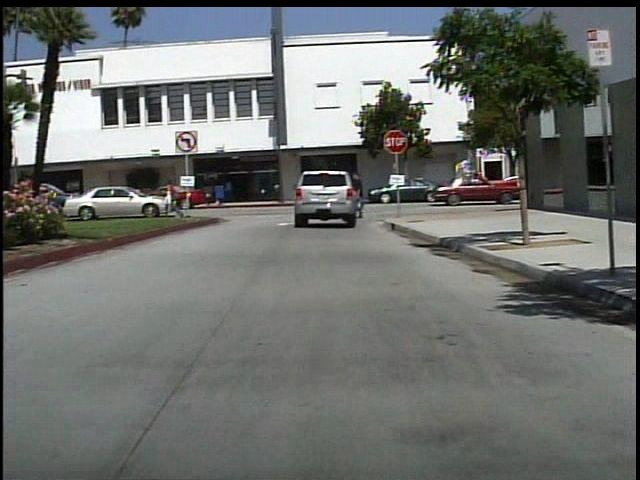person: (348, 170, 374, 225), (158, 174, 186, 220), (220, 177, 236, 206)
